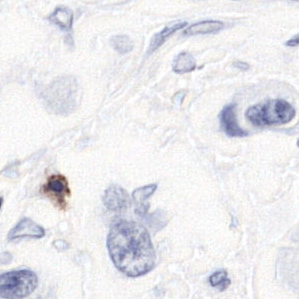Lymphocyte: (44, 175, 71, 204)
